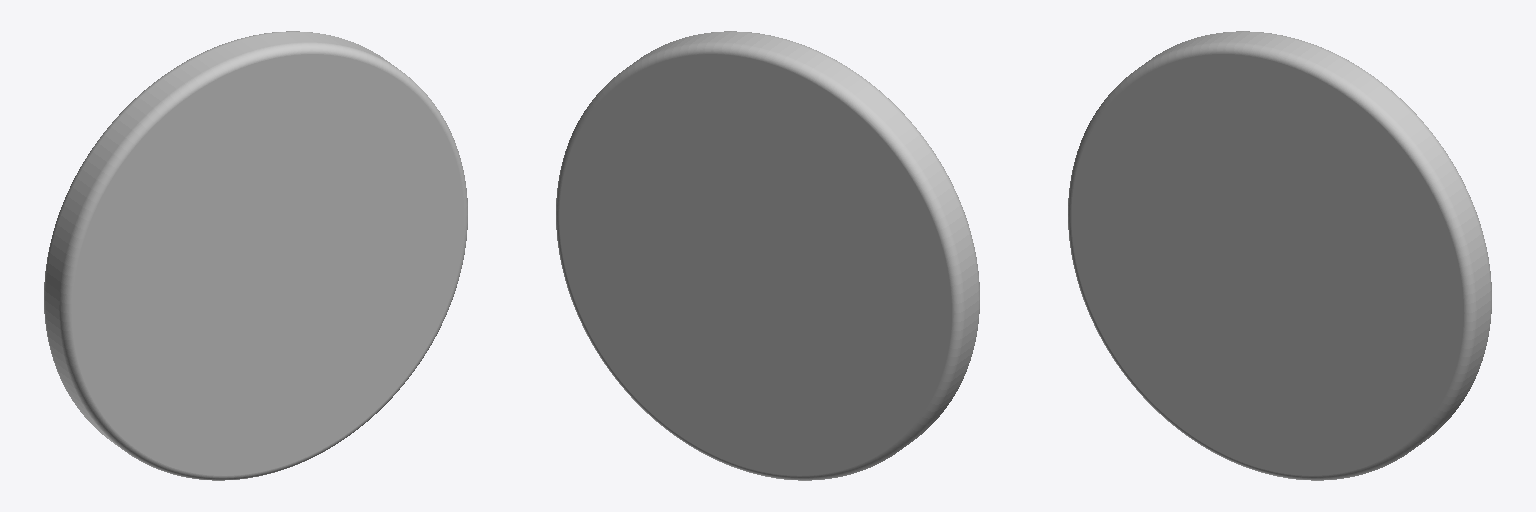
File: Burger.obj
3 renders of one model, left to right at view 1: azimuth 30°, elevation 25°; view 2: azimuth 150°, elevation 25°; view 3: azimuth 330°, elevation 25°, orthographic.
Size of the model in its own units: 0.0813 by 0.0813 by 0.0085.